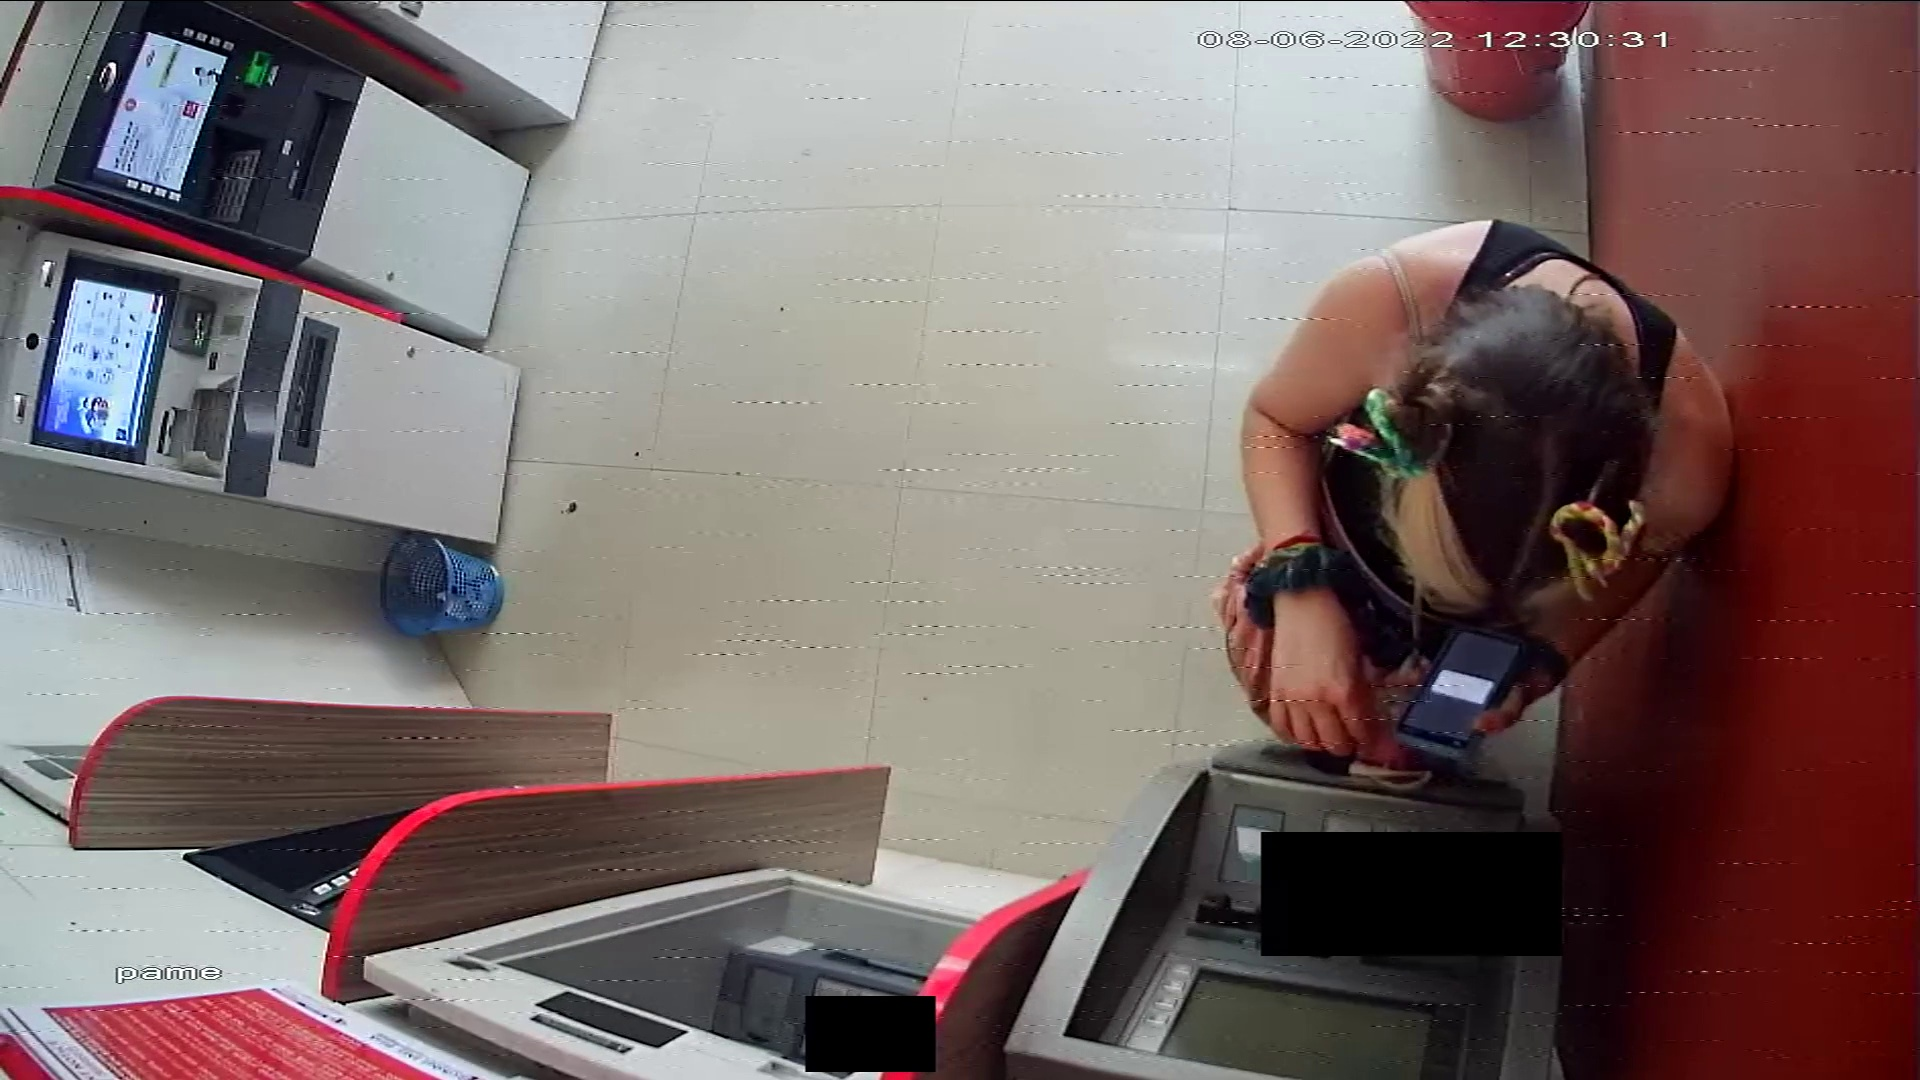person: (1239, 220, 1734, 757)
phone: (1395, 625, 1523, 750)
